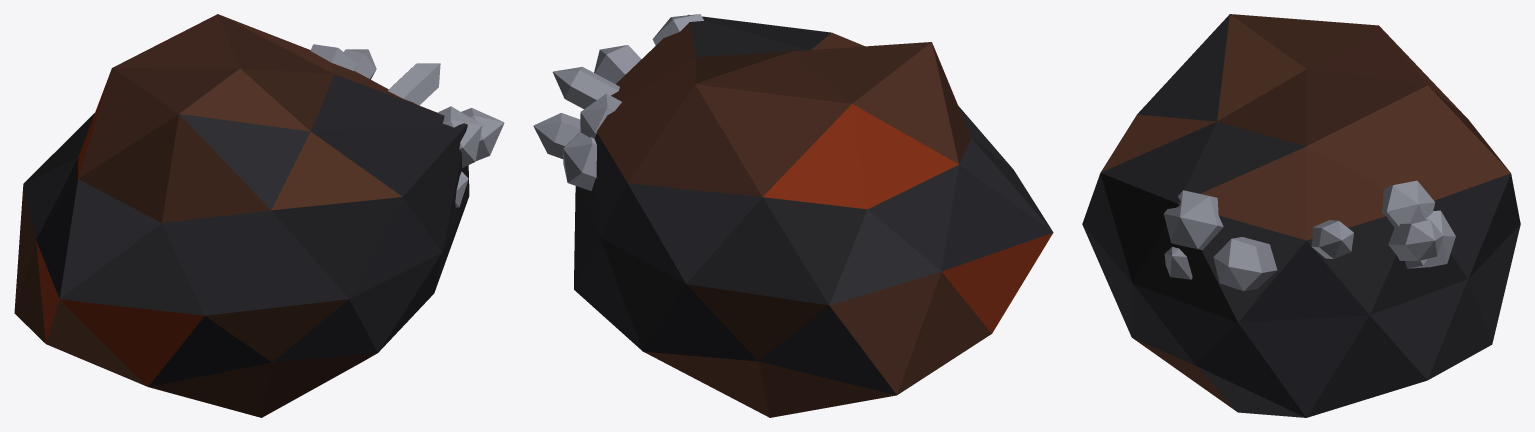
File: iron_ore.glb
3 renders of one model, left to right at view 1: azimuth 30°, elevation 25°; view 2: azimuth 150°, elevation 25°; view 3: azimuth 270°, elevation 25°, orthographic. The views are drawn at different scales.
Visible parts, largest first — view 1: Ore; view 2: Ore; view 3: Ore.
Part boxes in pixels (x1=…): Ore: x1=14, y1=14, x2=504, y2=417; Ore: x1=533, y1=14, x2=1053, y2=417; Ore: x1=1082, y1=14, x2=1520, y2=417.
Bounding box in the file's own units: 0.973 × 0.688 × 0.8103.
